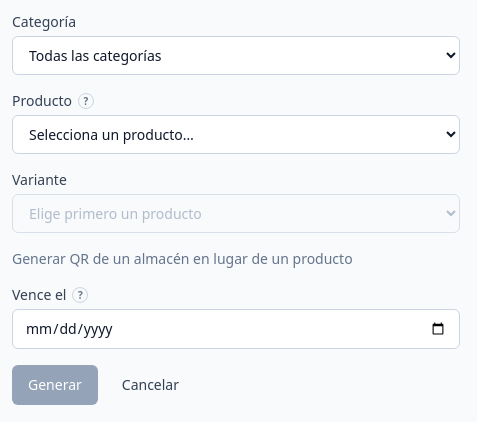
Test: QrForm › does not pre-select when several variants are still available
Select "Fridge" in the dropdown labelled "Producto" at point(236, 134), box [12,115,460,154]
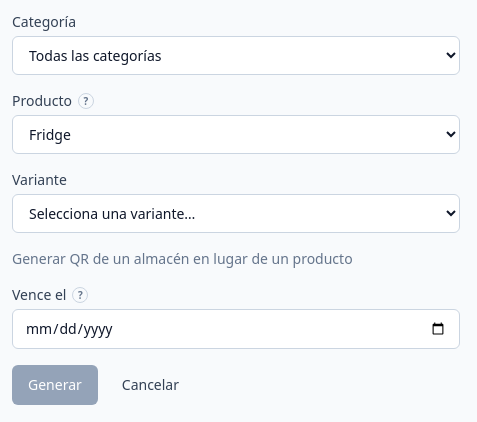
Expected: the dropdown labelled "Variante" shows "Selecciona una variante…", [12,194,460,233]
